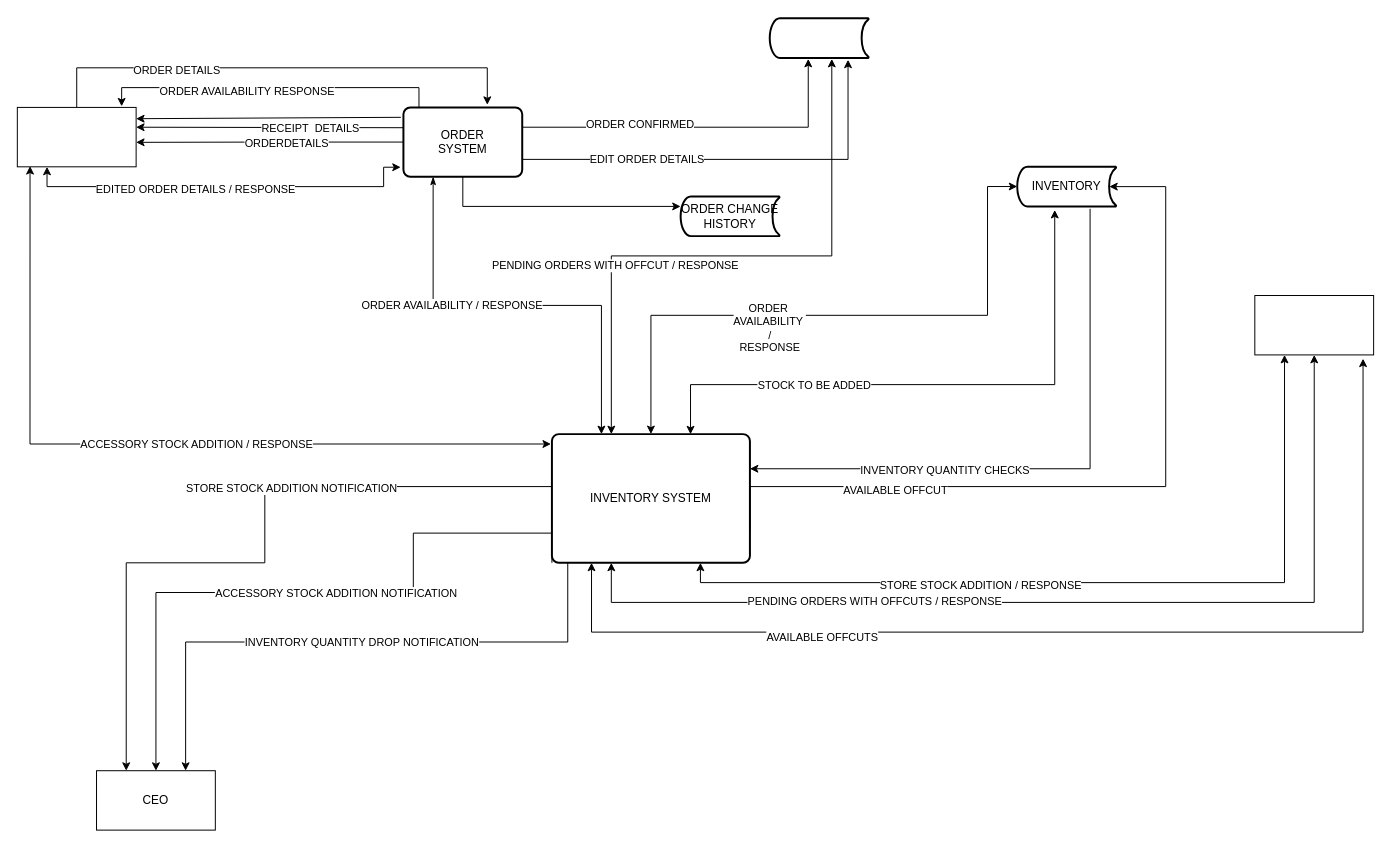
The diagram is 1391 pixels wide and 847 high, and some of its shapes have lost their labels. Here are the shapes that lost their labels. From the top down, the centre of each, then its label:
At pixel 818 37: "ORDERS".
At pixel 76 136: "CASHIER".
At pixel 1314 325: "STORE MANAGER".
